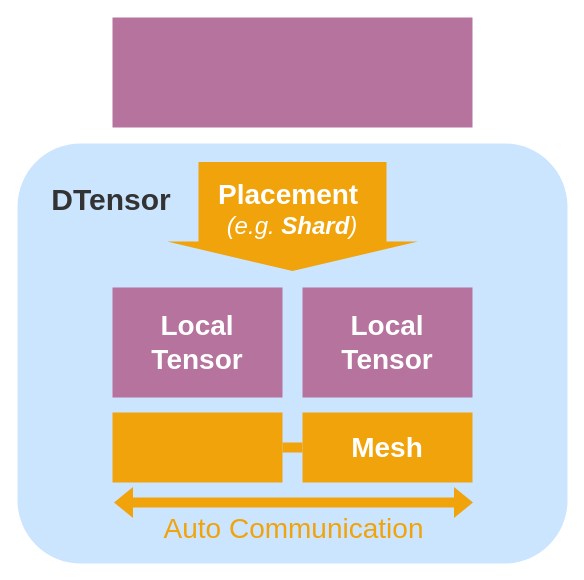
This 584x580 diagram has some shape labels left out. The centre of each missing label's shape, as x and y in pixels:
"Device" goes at (197,447).
"Global Tensor on a Single Device" goes at (292,72).
